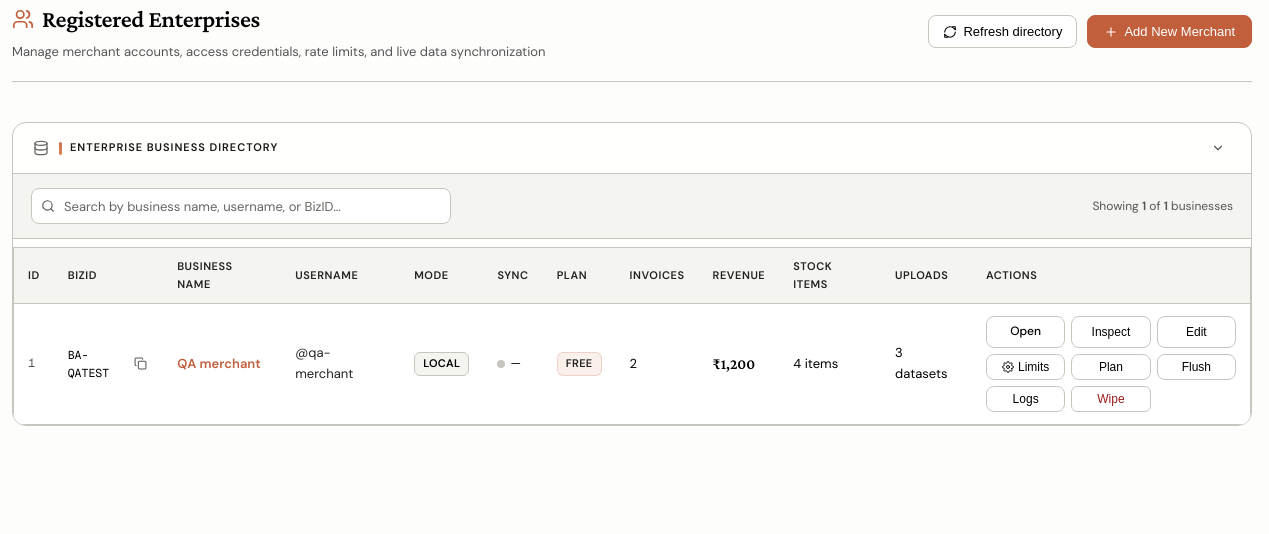
Admin directory load state › retains known data with a stale-data notice after a failed refresh and recovers on retry
The image size is (1269, 534).
Expected: the link "QA merchant" is shown, [177,355,261,372]
Click the button "Refresh directory": [1003, 32] box [928,15,1078,48]
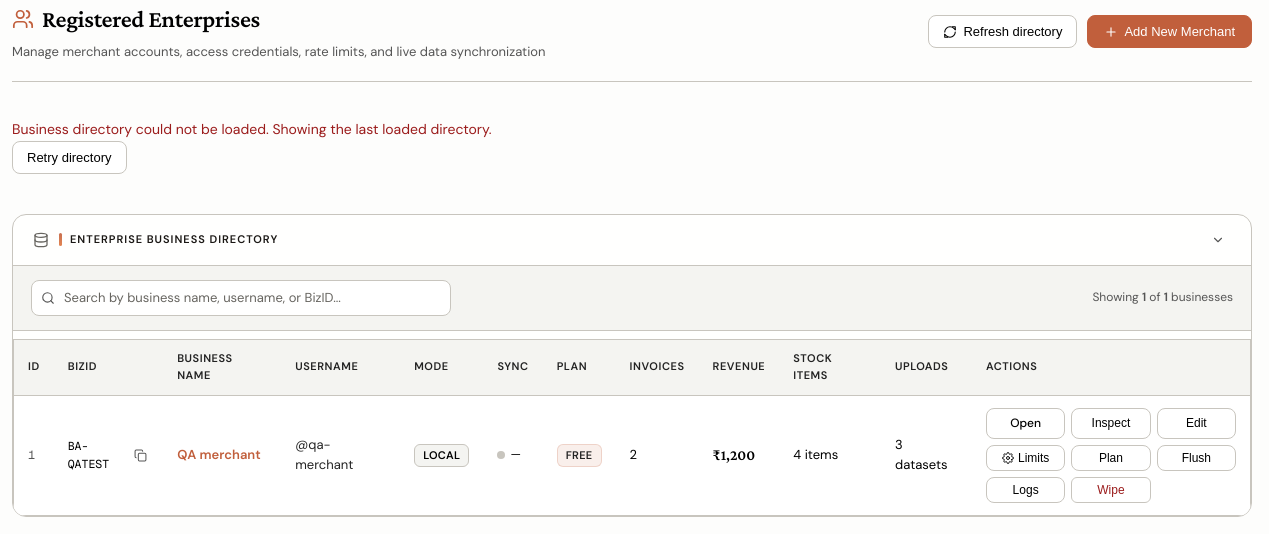
Expected: the link "QA merchant" is shown, [177,446,261,463]
Expected: the message shows "Showing the last loaded", [269,120,492,138]
Click the button "Retry directory": [69, 157] box [12,141,126,174]
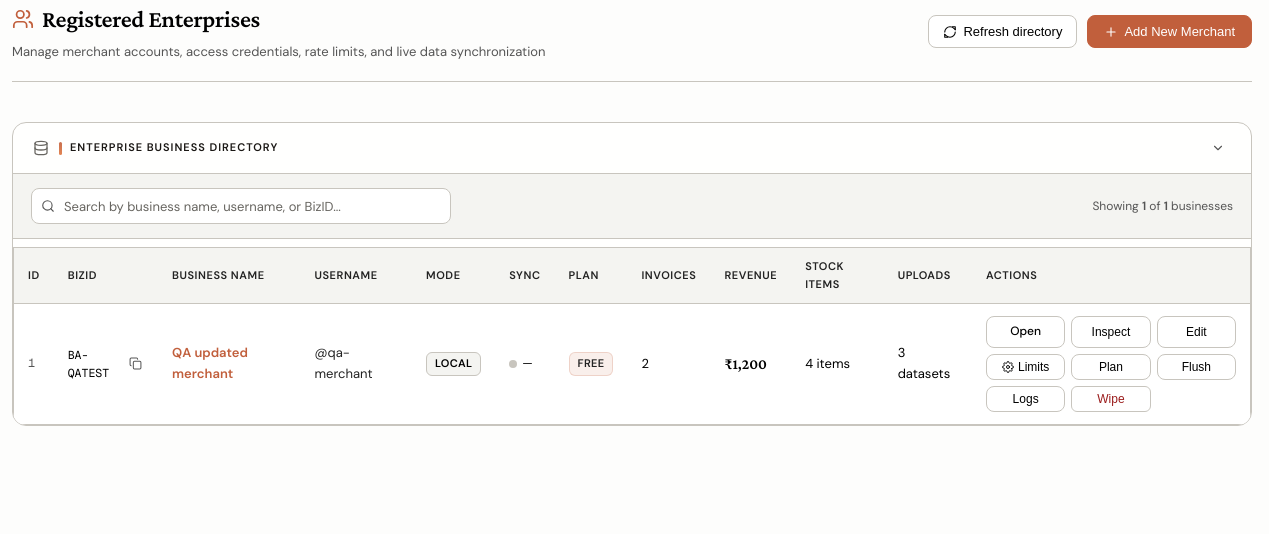
Expected: the link "QA updated merchant" is shown, [172,344,248,382]
Expected: the message is gone
